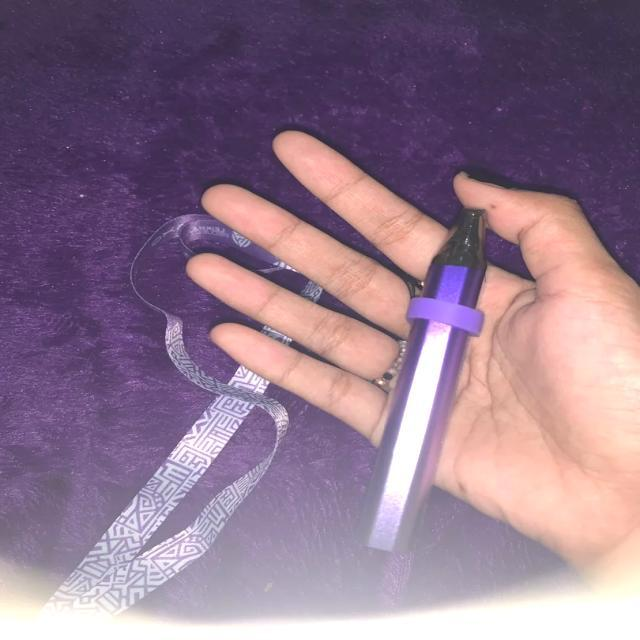Hazard: (348, 206, 488, 551)
